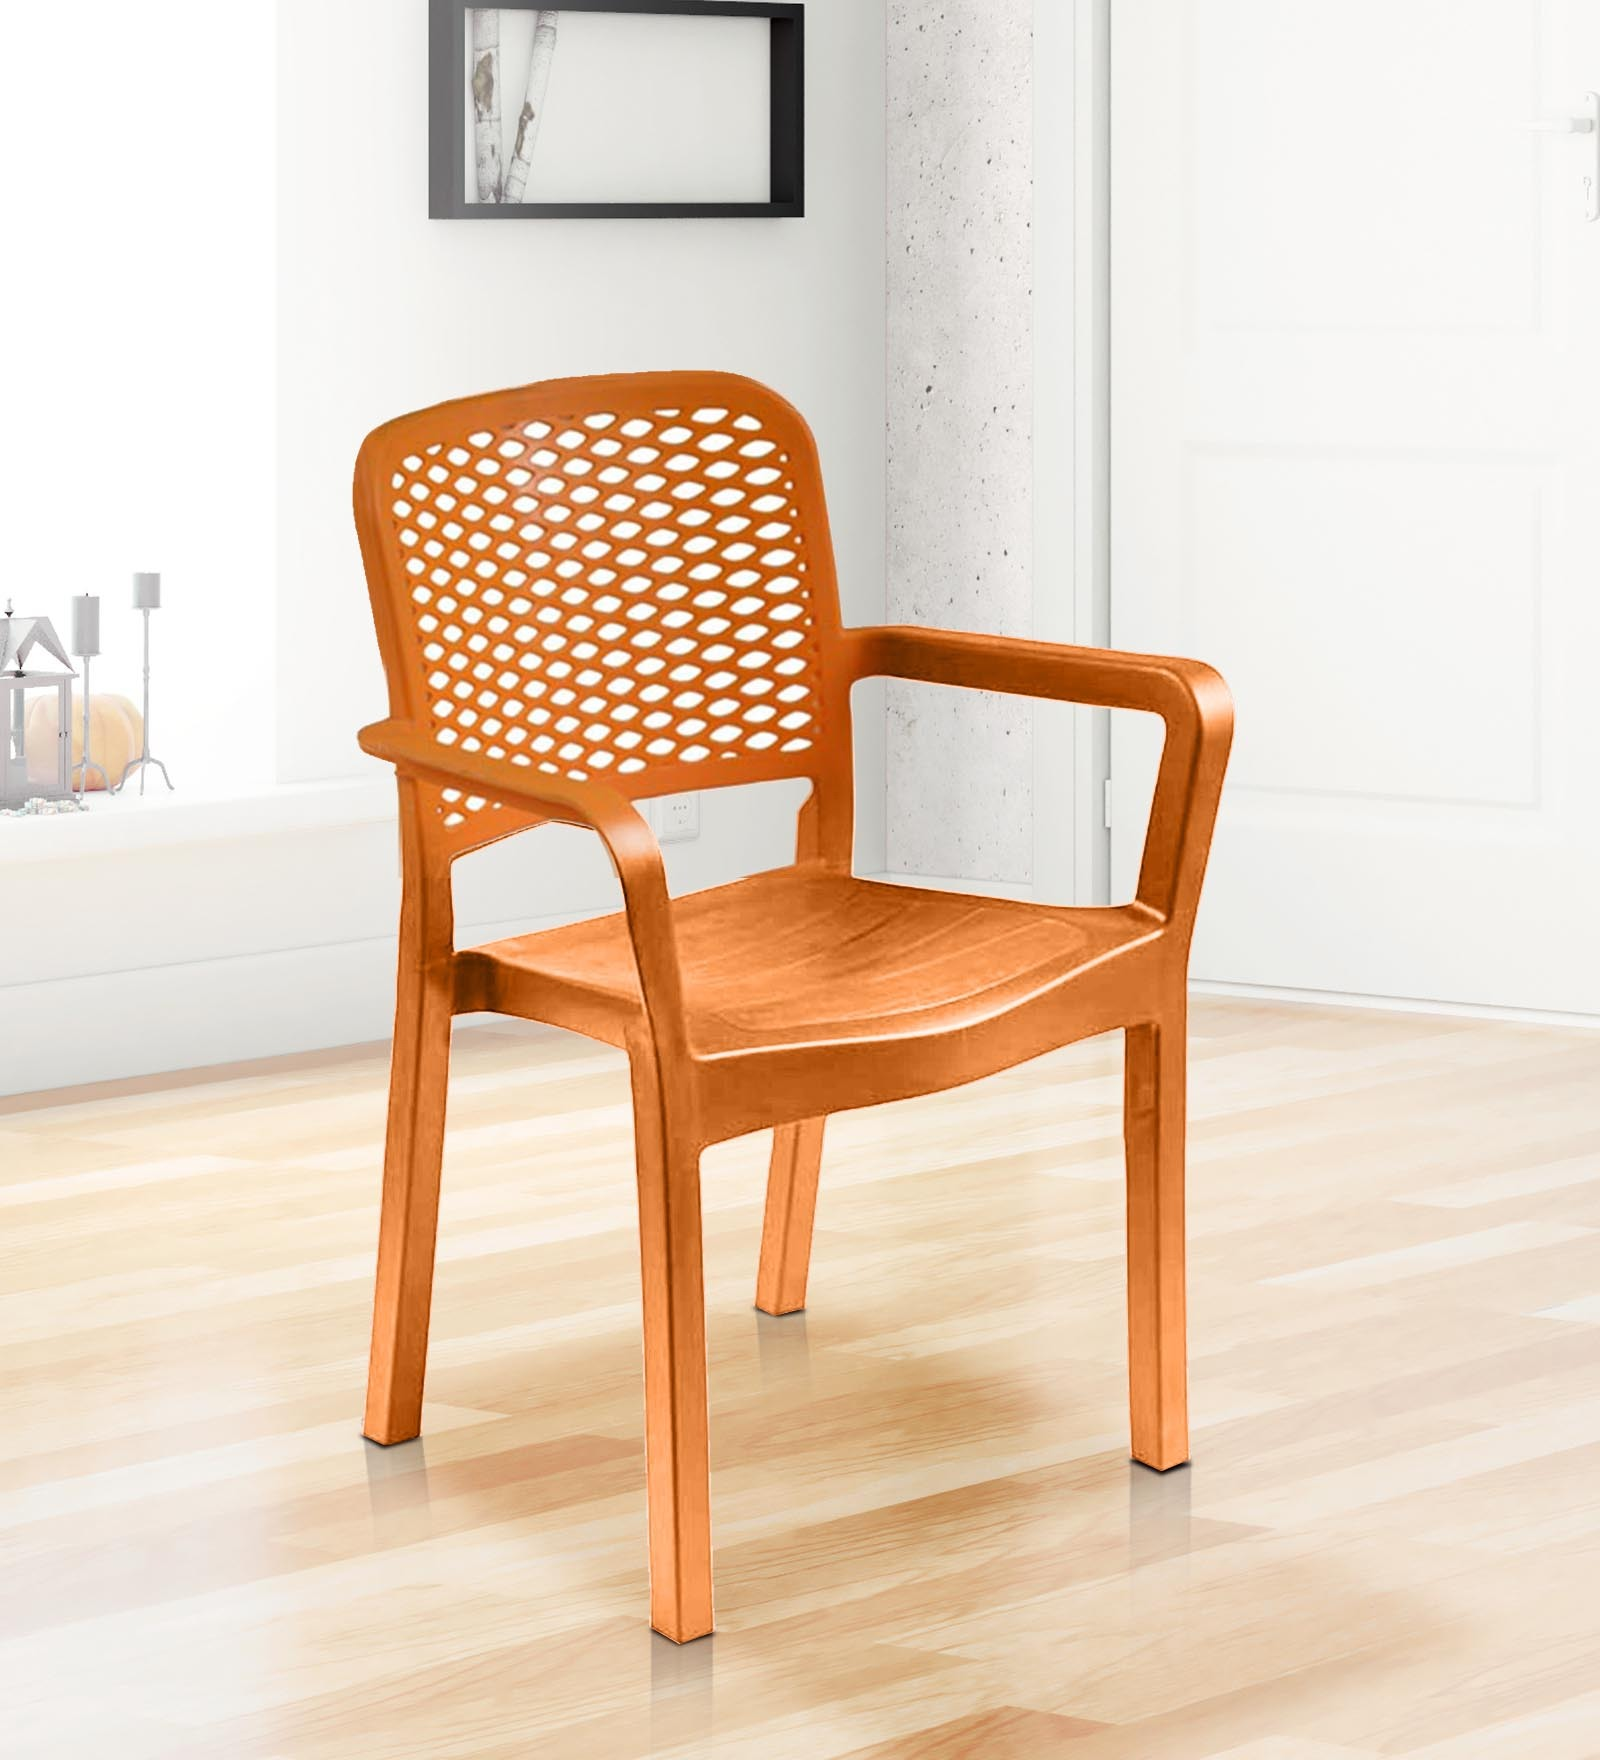Luxury Plastic Chair in Orange Colour by Italica Furniture: (339, 368, 1221, 1637)
